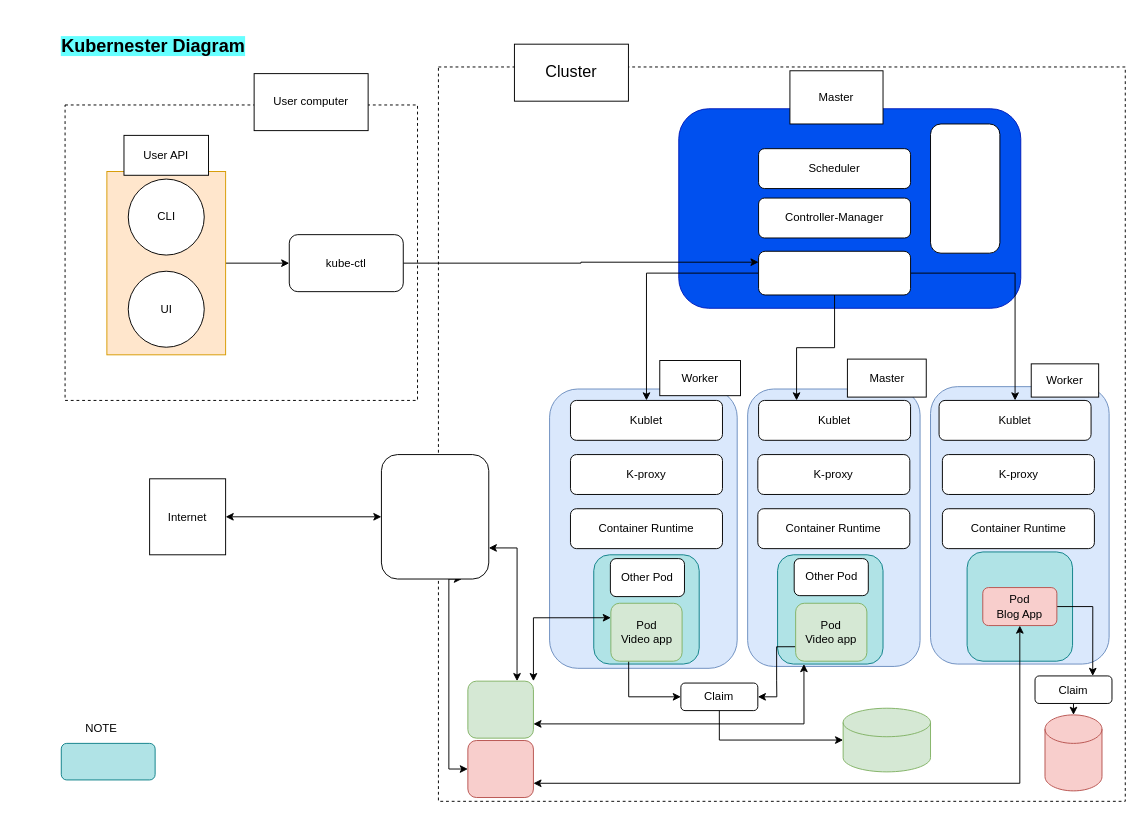
Some shapes in this 1142 by 818 pixel diagram are drawn without their labels. The centre of each missing label's shape, as x and y in pixels:
API Server: point 834,272
Container: point 107,761
etc: point 965,188
Ingress: point 434,516
Service 1: point 500,709
Service 2: point 500,769
Volume 1: point 886,739
Volume 2: point 1073,752
